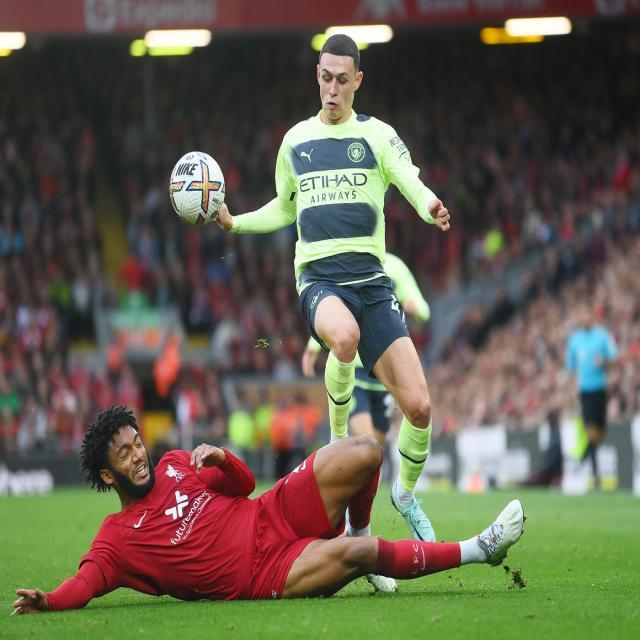Etihad Airways: (299, 169, 368, 206)
Nike: (133, 510, 149, 530), (420, 545, 427, 572)
Puma: (299, 148, 314, 162)
